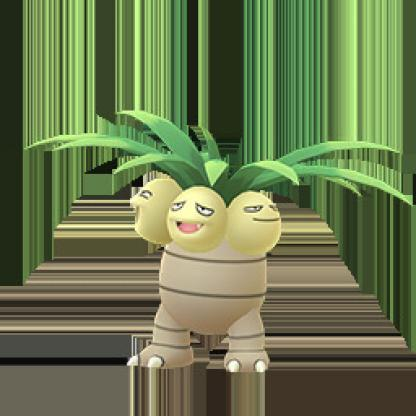Exeggutor: (40, 102, 406, 374)
